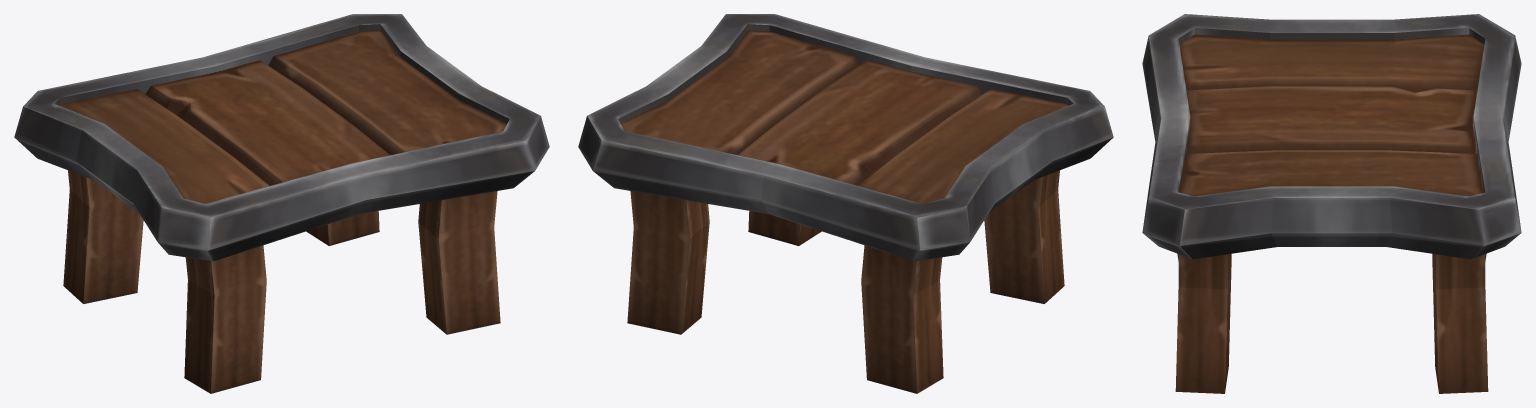
File: Stool_01.glb
3 views of the same model, side by side, from view 1: azimuth 30°, elevation 25°; view 2: azimuth 150°, elevation 25°; view 3: azimuth 270°, elevation 25° (orthographic). The views are drawn at different scales.
Parts seen in each view (by area): view 1: Stool_01; view 2: Stool_01; view 3: Stool_01.
Part boxes in pixels (left/top/right/bottom): Stool_01: left=14, top=14, right=549, bottom=393; Stool_01: left=578, top=14, right=1113, bottom=393; Stool_01: left=1142, top=14, right=1521, bottom=393.
Size of the model in its own units: 1.65 by 0.791 by 1.3.
1 material, 1 textured.
